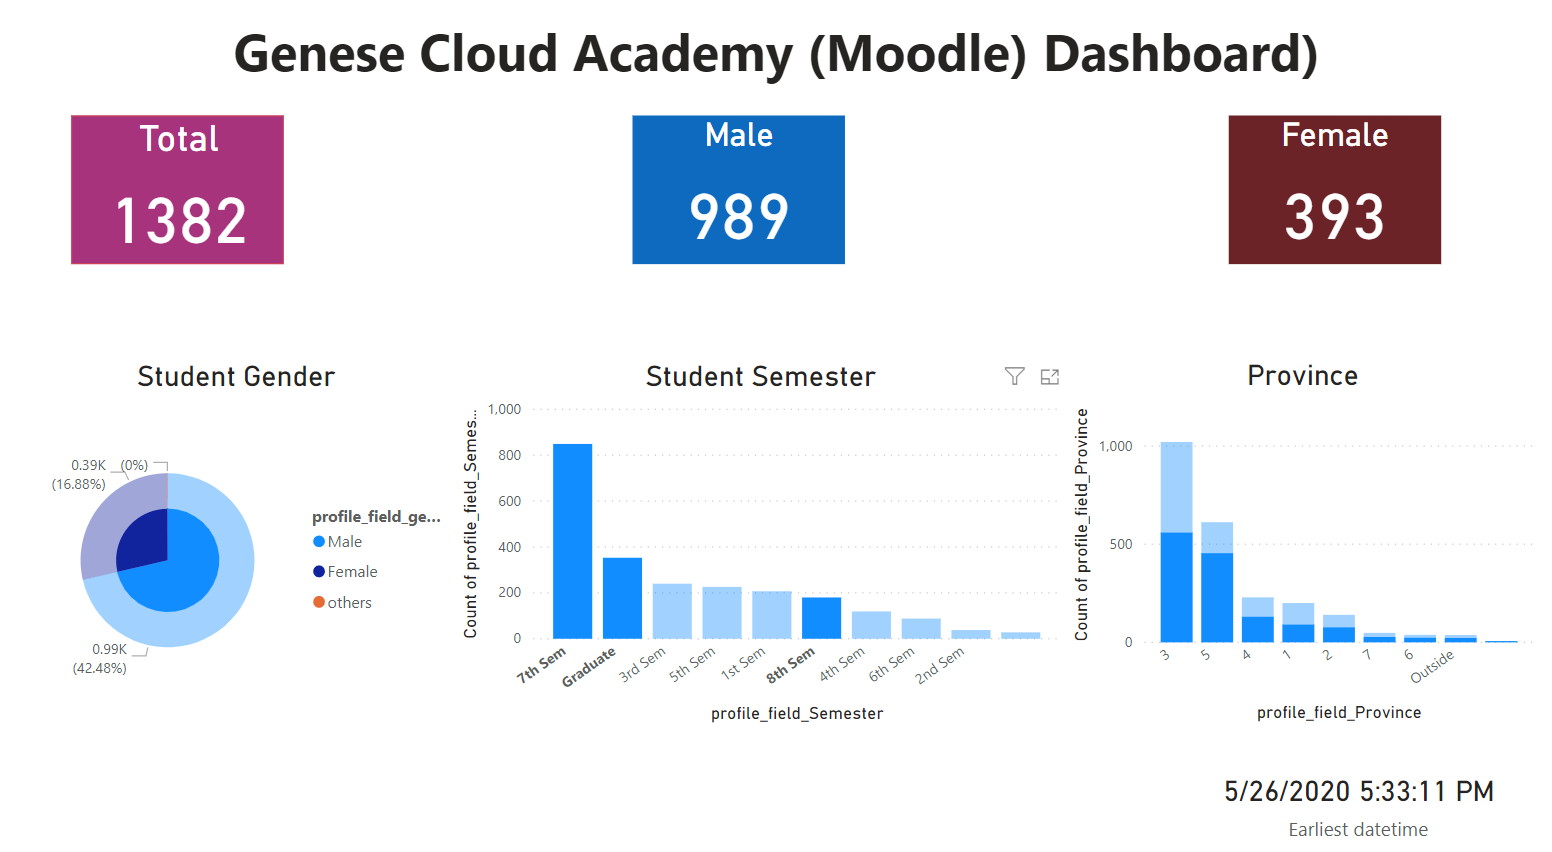

Layout of this report page (visuals, bound fields, positions):
{"tool":"powerbi","page":{"name":"Dashboard","canvas":[1280,720],"ordinal":0},"visuals":[{"type":"pieChart","title":"Student Gender","fields":{"Category":["user_latest.profile_field_gender1"],"Series":["user_latest.profile_field_gender1"],"Y":["CountNonNull(user_latest.profile_field_gender)"]},"box":[2.1,303.2,367.2,310.5],"z":0},{"type":"columnChart","title":"Student Semester","fields":{"Category":["user_latest.profile_field_Semester1"],"Y":["CountNonNull(user_latest.profile_field_Semester)1"]},"box":[369.4,303.2,513.4,310.5],"z":1000},{"type":"columnChart","title":"Province","fields":{"Category":["user_latest.profile_field_Province1"],"Y":["CountNonNull(user_latest.profile_field_Province)1"]},"box":[882.3,302.7,397.4,310.5],"z":2000},{"type":"card","title":"Total","fields":{"Values":["CountNonNull(user_latest.id)"]},"box":[47.1,98.8,178.8,124.4],"z":3000},{"type":"card","title":"Male","fields":{"Values":["CountNonNull(user_latest.profile_field_gender)"]},"box":[518.2,98.8,178.8,124.4],"z":4000},{"type":"card","title":"Female","fields":{"Values":["CountNonNull(user_latest.profile_field_gender)"]},"box":[1019.5,98.8,178.8,124.4],"z":5000},{"type":"textbox","box":[0,10.9,1279.3,72.5],"z":6000},{"type":"card","fields":{"Values":["Min(Kathmandu.datetime)"]},"box":[994.2,641.5,268.2,68.9],"z":7000}]}

Visuals, with their boxes in screenshot pixels (x1, y1, x2, y2), scaled from the page's 1280x720 canvas onto the 1552x852 screenshot:
"Student Gender" pieChart: <box>3,359,448,726</box>
"Student Semester" columnChart: <box>448,359,1070,726</box>
"Province" columnChart: <box>1070,358,1551,726</box>
"Total" card: <box>57,117,274,264</box>
"Male" card: <box>628,117,845,264</box>
"Female" card: <box>1236,117,1453,264</box>
textbox: <box>0,13,1551,99</box>
card - Min(Kathmandu.datetime): <box>1205,759,1531,841</box>
